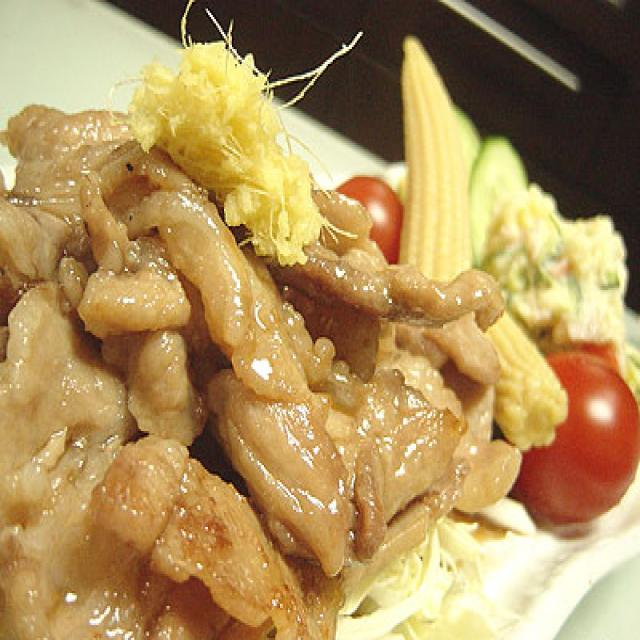猪肉菜式: (0, 104, 501, 640)
